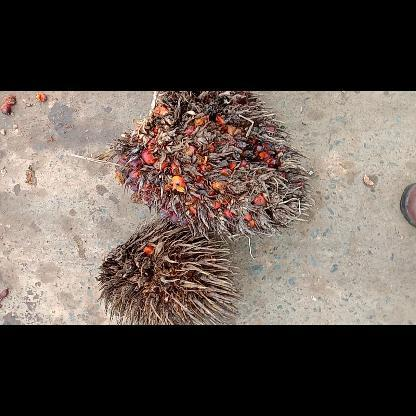Janjang kosong: (95, 216, 245, 324)
Terlalu masak: (84, 90, 312, 244)
